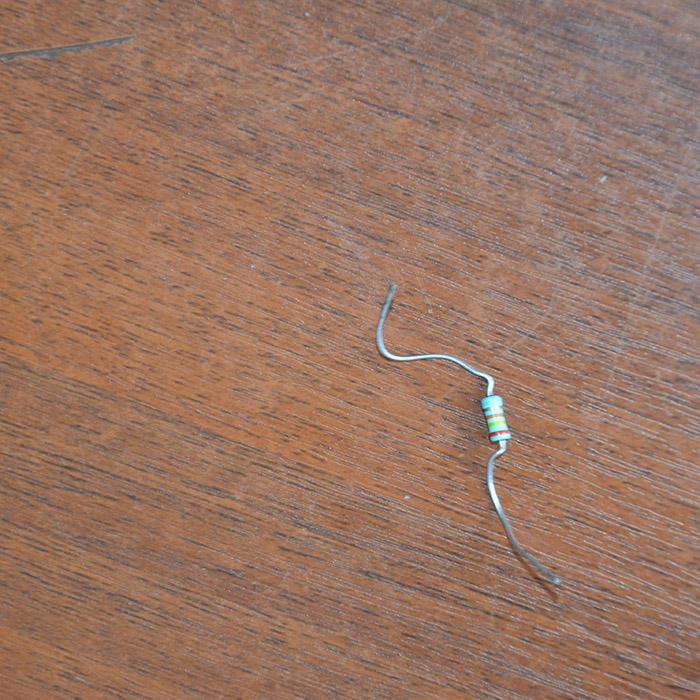resistor: (479, 394, 511, 442)
